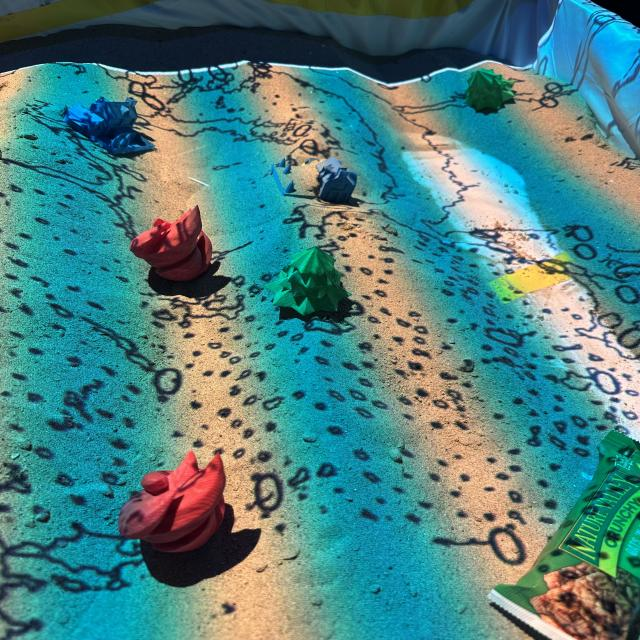fire: (119, 448, 228, 552), (132, 206, 214, 281)
house: (62, 99, 155, 156), (274, 153, 358, 204)
tree: (266, 245, 351, 316), (466, 67, 516, 112)
